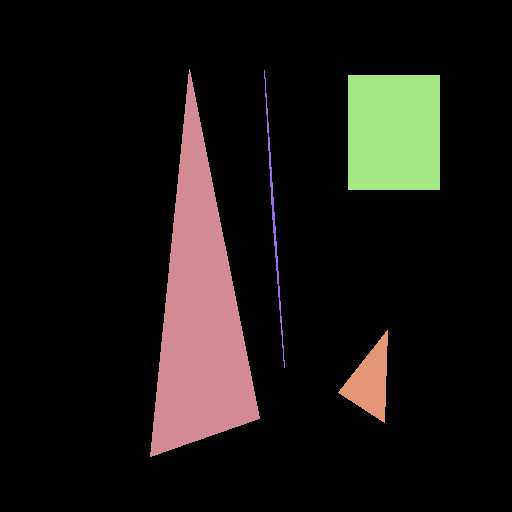rectangle: (348, 75, 439, 189)
triangle: (150, 69, 259, 456), (338, 330, 387, 422)
